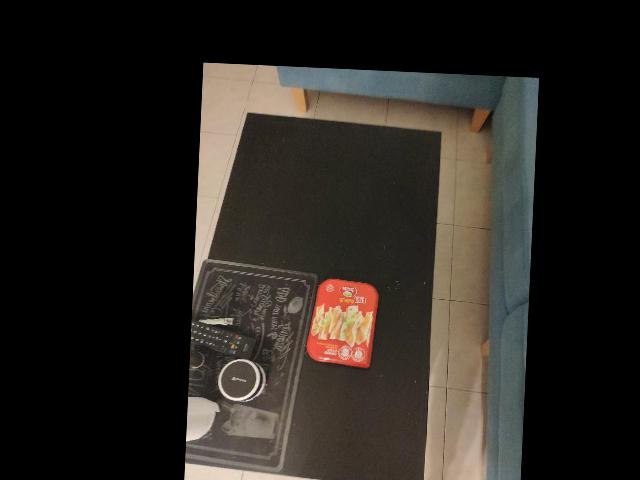cheese: (305, 277, 379, 368)
